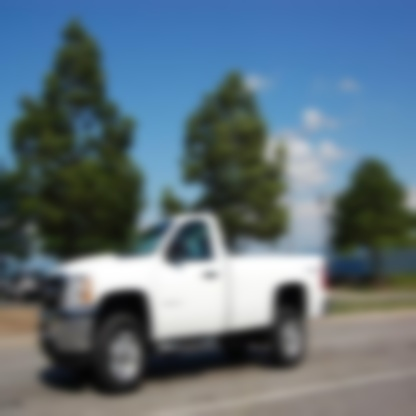Vehicle: (37, 212, 326, 396)
